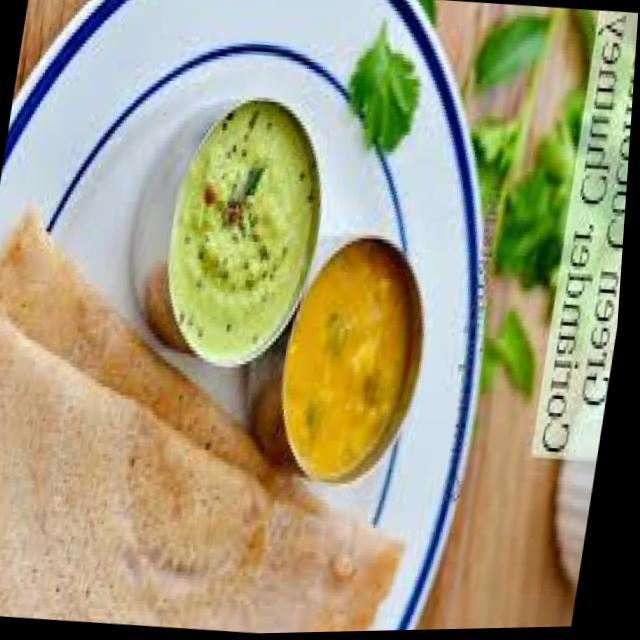DOSA: (0, 303, 430, 633)
GREEN CHUTNEY: (168, 100, 318, 352)
SAMBAR: (287, 248, 408, 470)
